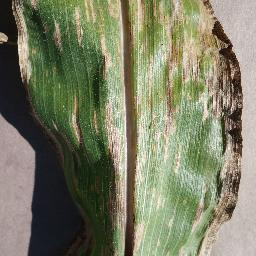Gray_Leaf_Spot: (124, 0, 249, 256), (92, 49, 123, 256), (72, 0, 122, 48), (21, 122, 68, 170), (12, 0, 37, 84), (63, 208, 93, 256), (70, 92, 87, 146), (48, 12, 65, 54), (25, 85, 36, 122), (71, 169, 79, 197)
